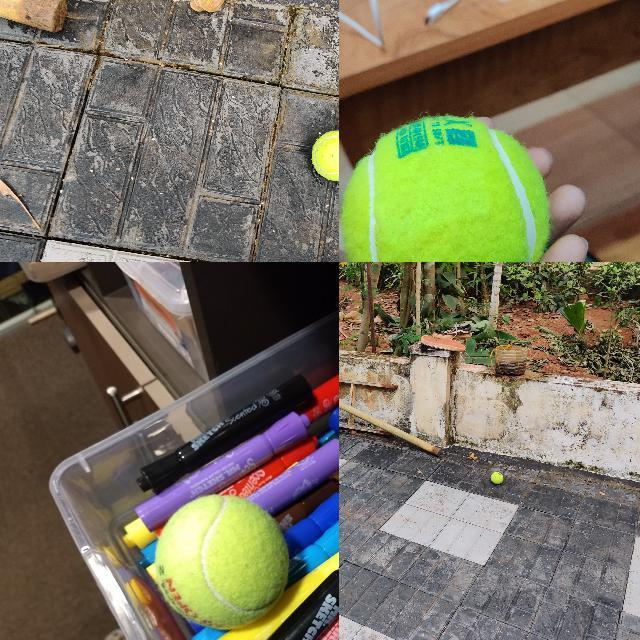tennis-ball: (343, 116, 550, 261), (154, 494, 288, 630), (311, 129, 338, 182), (491, 472, 504, 484)
